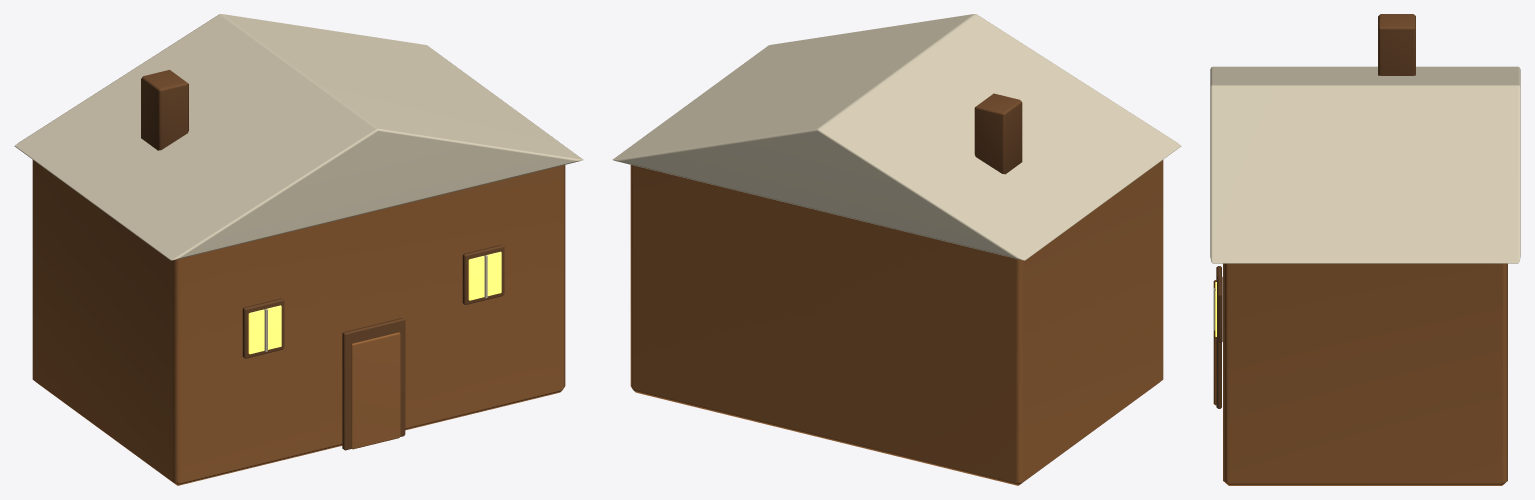
File: ski_lodge.glb
3 renders of one model, left to right at view 1: azimuth 30°, elevation 25°; view 2: azimuth 150°, elevation 25°; view 3: azimuth 270°, elevation 25°, orthographic. The views are drawn at different scales.
Visible parts, largest first — view 1: ski_lodge; view 2: ski_lodge; view 3: ski_lodge.
Part boxes in pixels (x1,y1,x2,y2): ski_lodge: (14,14,583,485); ski_lodge: (612,14,1181,485); ski_lodge: (1210,14,1520,485).
Size of the model in its own units: 7.36 by 5.55 by 4.9.
